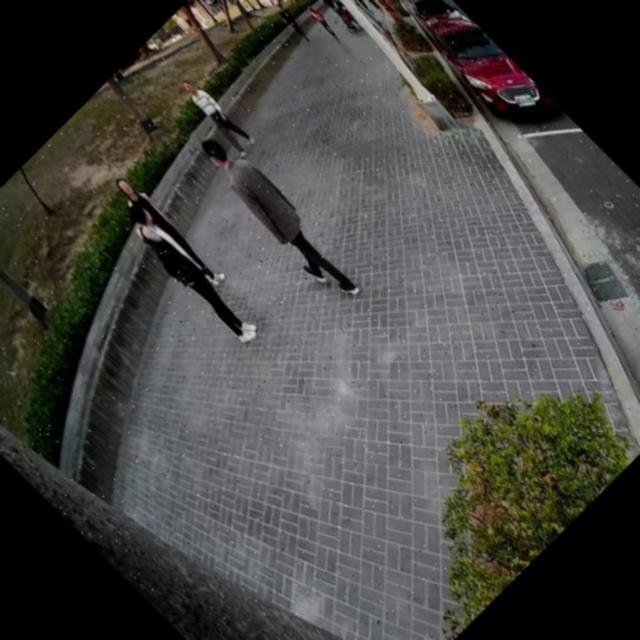person: (183, 121, 375, 313), (110, 194, 266, 351), (105, 166, 233, 294), (170, 71, 262, 163), (269, 0, 316, 44), (302, 0, 346, 44)
